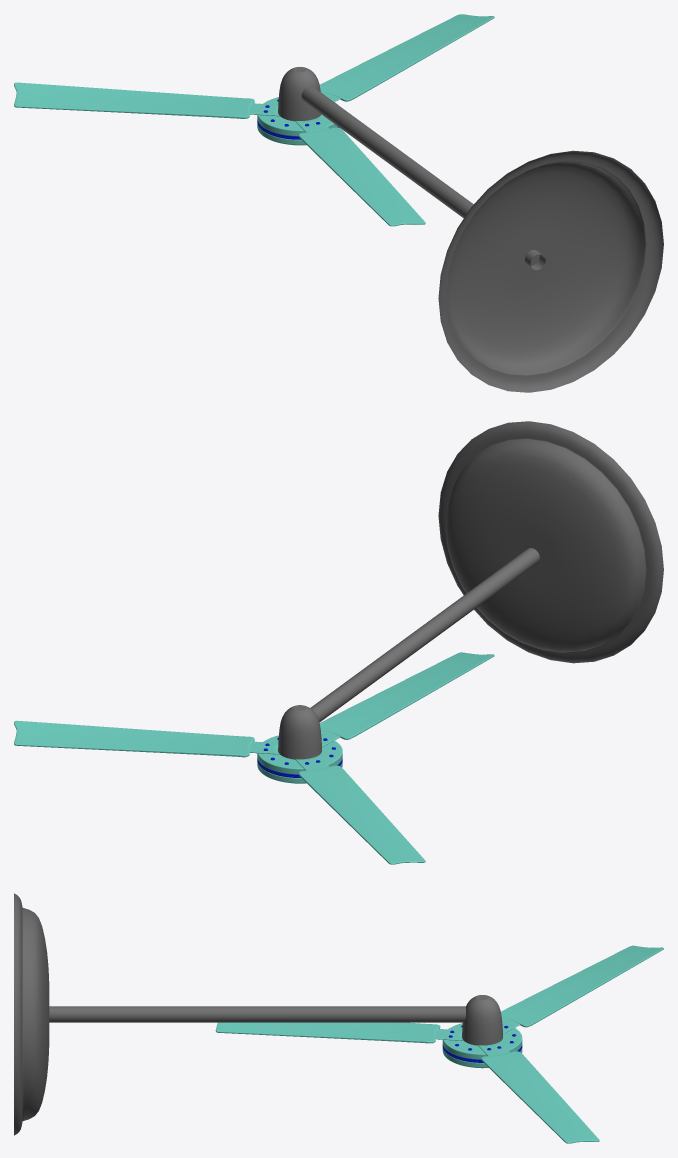
File: fan.fbx
3 views of the same model, one above another, from view 1: azimuth 30°, elevation 25°; view 2: azimuth 150°, elevation 25°; view 3: azimuth 270°, elevation 25° (orthographic). The views are drawn at different scales.
Parts seen in each view (by area): view 1: Circle.021, Plane.002, Plane.001, Plane, Circle.001, Circle, Circle.022; view 2: Circle.021, Plane, Circle.001, Plane.002, Plane.001, Circle, Circle.022; view 3: Circle.001, Circle.021, Plane, Plane.001, Plane.002, Circle, Circle.022.
Part boxes in pixels (x1,y1,x2,y2): Circle.021: [438, 150, 663, 392]; Plane.002: [14, 82, 279, 118]; Plane.001: [295, 117, 425, 226]; Plane: [319, 14, 494, 102]; Circle.001: [301, 86, 545, 270]; Circle: [278, 67, 321, 121]; Circle.022: [257, 97, 338, 137]; Circle.021: [438, 421, 663, 663]; Plane: [14, 720, 279, 757]; Circle.001: [310, 548, 539, 722]; Plane.002: [295, 755, 425, 864]; Plane.001: [319, 652, 494, 746]; Circle: [278, 705, 321, 759]; Circle.022: [257, 735, 342, 776]; Circle.001: [49, 1006, 465, 1022]; Circle.021: [14, 893, 49, 1135]; Plane: [478, 1042, 599, 1143]; Plane.001: [215, 1022, 463, 1043]; Plane.002: [501, 945, 663, 1033]; Circle: [462, 995, 502, 1045]; Circle.022: [442, 1023, 522, 1061].
Size of the model in its own units: 904 by 458 by 1226.
